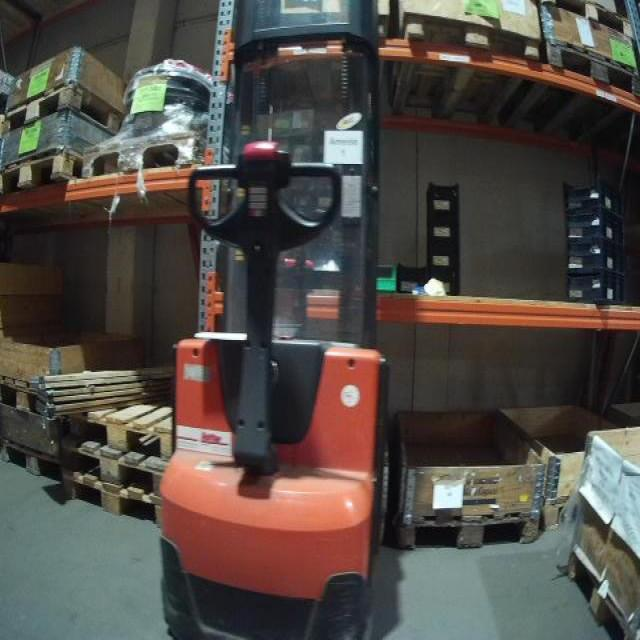pallet: (502, 39, 636, 147), (1, 82, 126, 135), (566, 542, 634, 639), (84, 134, 213, 179), (395, 512, 539, 551), (64, 441, 166, 496), (62, 473, 164, 527), (69, 411, 174, 462), (0, 144, 94, 197), (540, 0, 634, 39), (0, 437, 62, 485), (0, 373, 61, 418), (542, 504, 582, 527)
pallet_truck: (158, 1, 386, 639)
small_load_carrier: (562, 180, 625, 213), (567, 218, 624, 249), (568, 239, 621, 272), (568, 276, 626, 303)
